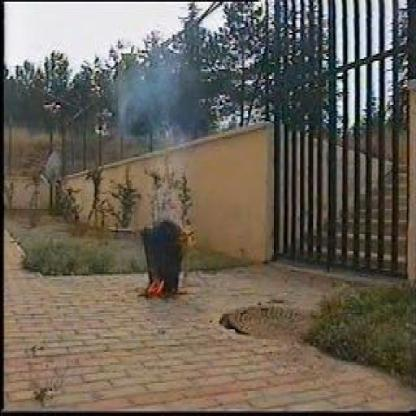-: (121, 61, 197, 134)
foggia-v2-map80-epoch100 - v1 4323: (148, 281, 167, 298)
